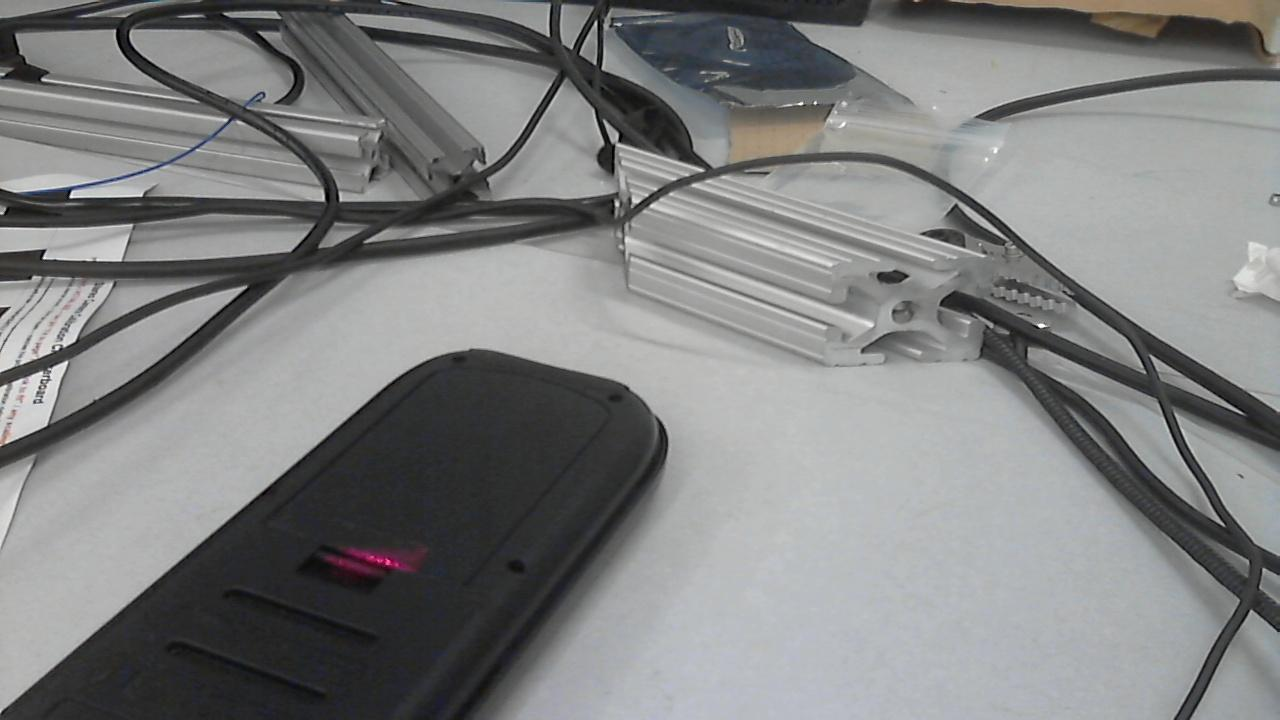Object graphing calculator slide case - Material plastic - Pdfname as1D2765rACT: (291, 533, 439, 579)
